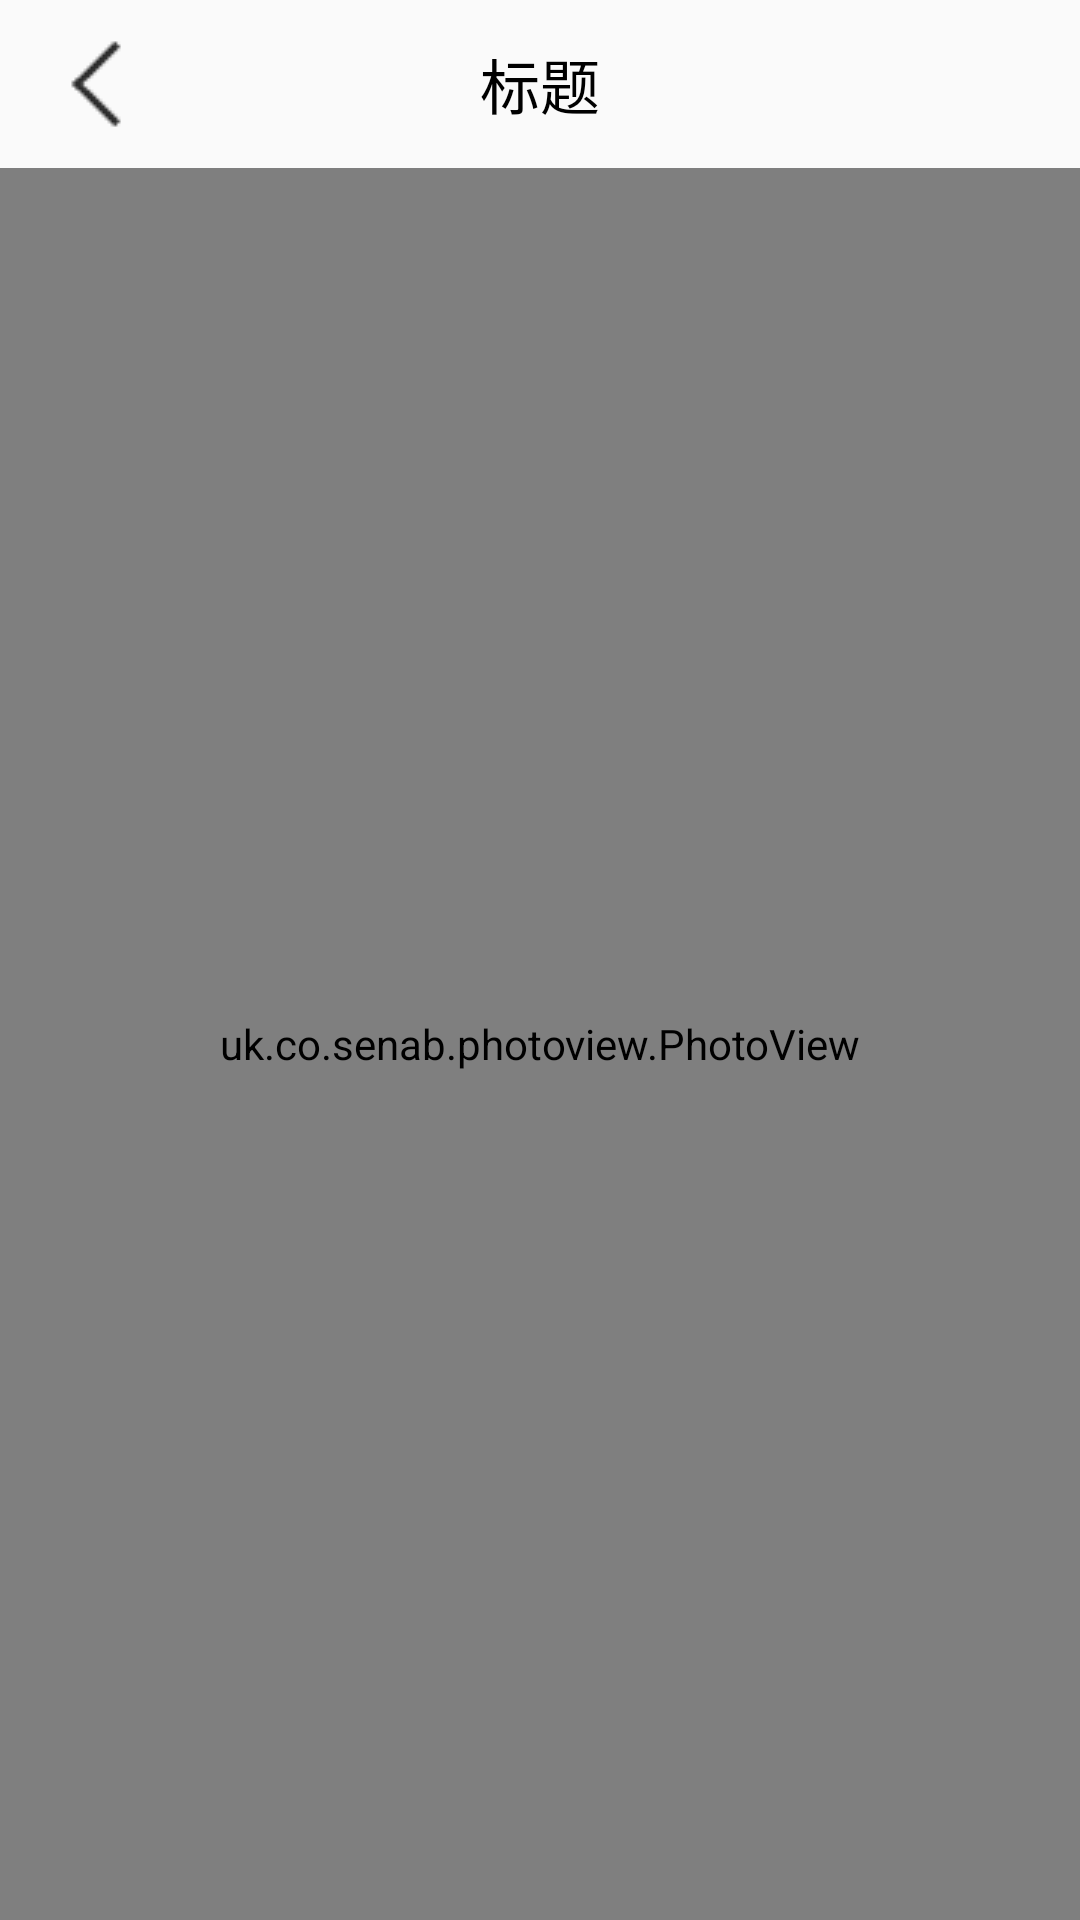

Named icons in this screenshot (1080 × 1920) and their bounding boxes, BBox(x1, y1, x2, y2):
back: BBox(71, 41, 121, 127)
